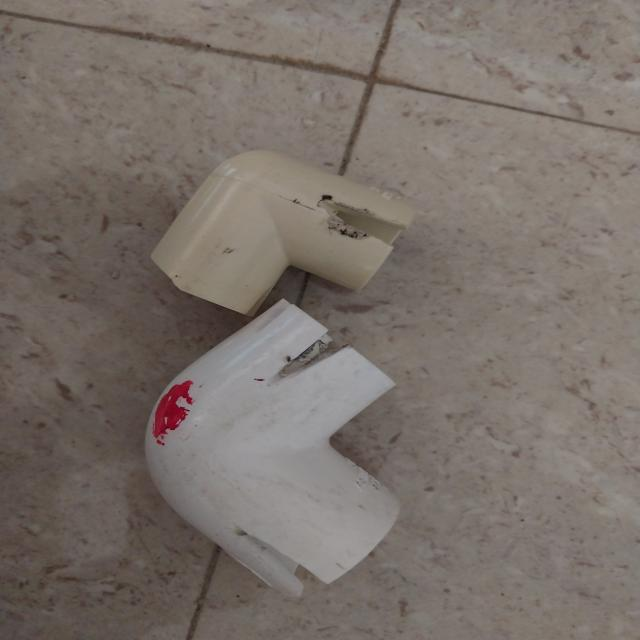Defective: (216, 514, 363, 598), (312, 195, 401, 256), (274, 336, 370, 392), (148, 385, 207, 449)
L Joint: (143, 302, 402, 600), (150, 150, 416, 318)
